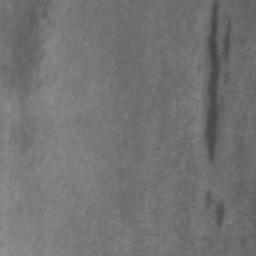Inclusion: (206, 4, 221, 159), (216, 205, 225, 228)
